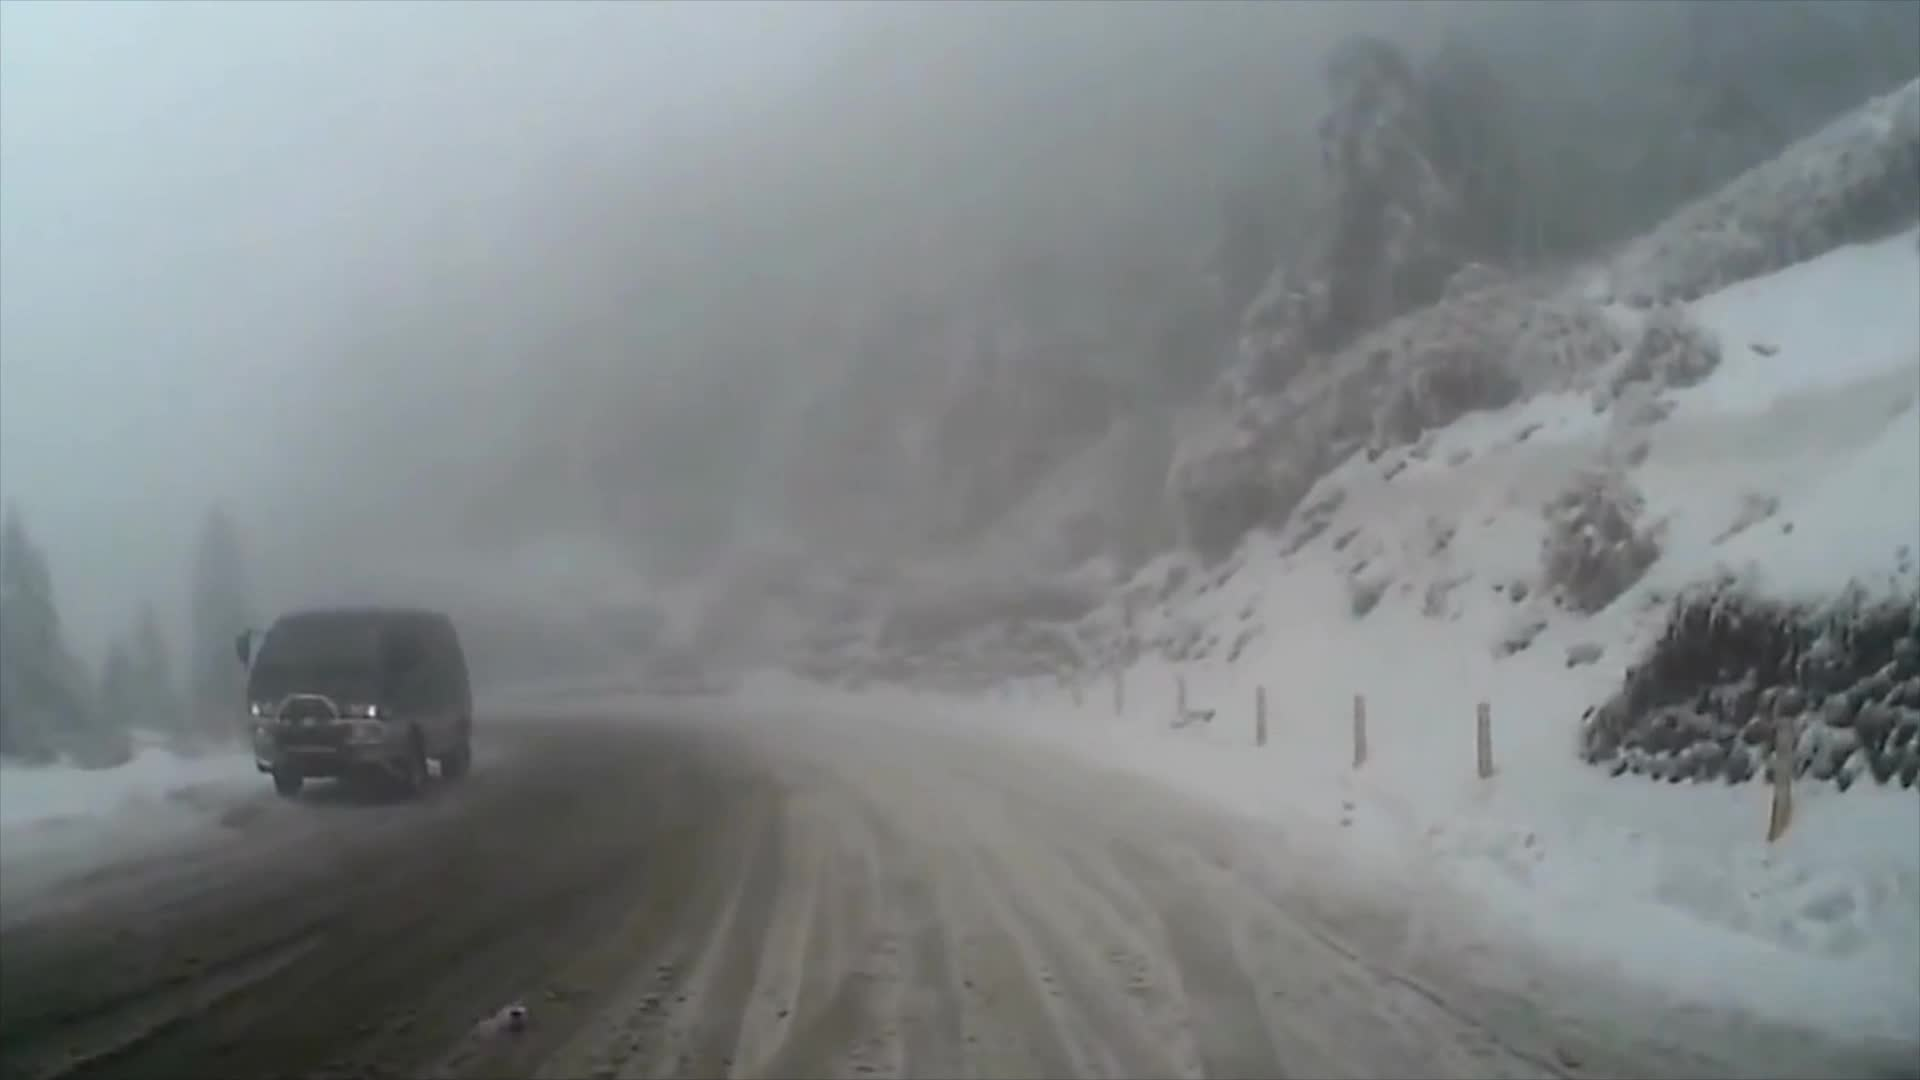vehicle: (233, 603, 473, 799)
